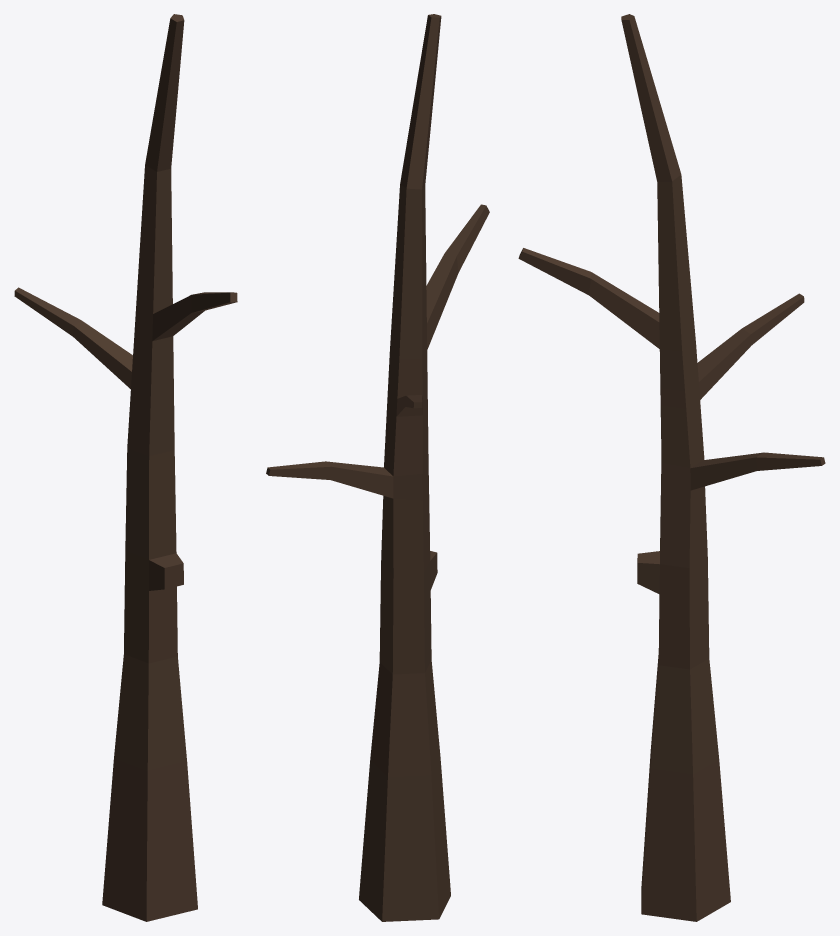
Rendered from deadtree1.fbx.
3 renders of one model, left to right at view 1: azimuth 30°, elevation 25°; view 2: azimuth 150°, elevation 25°; view 3: azimuth 270°, elevation 25°, orthographic. The views are drawn at different scales.
Visible parts, largest first — view 1: trunk1; view 2: trunk1; view 3: trunk1.
Part boxes in pixels (x1,y1,x2,y2): trunk1: [14, 14, 237, 921]; trunk1: [266, 14, 489, 921]; trunk1: [518, 14, 825, 921].
Bounding box in the file's own units: 540 × 3086 × 970.
